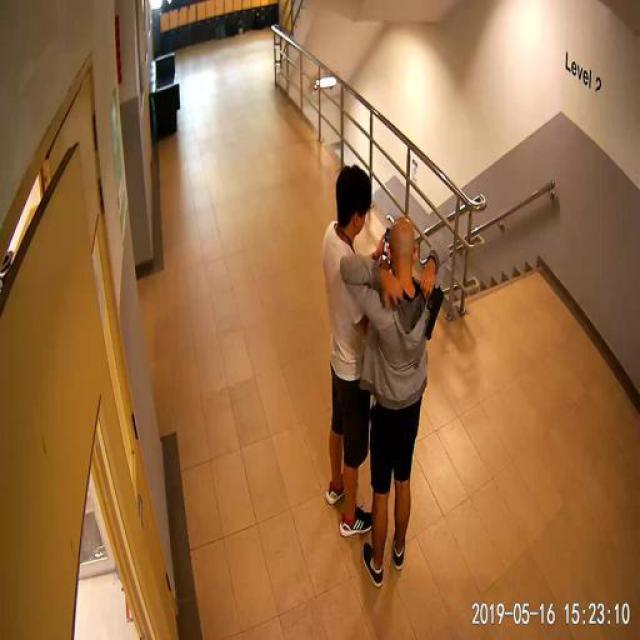weapon: (424, 284, 445, 342)
